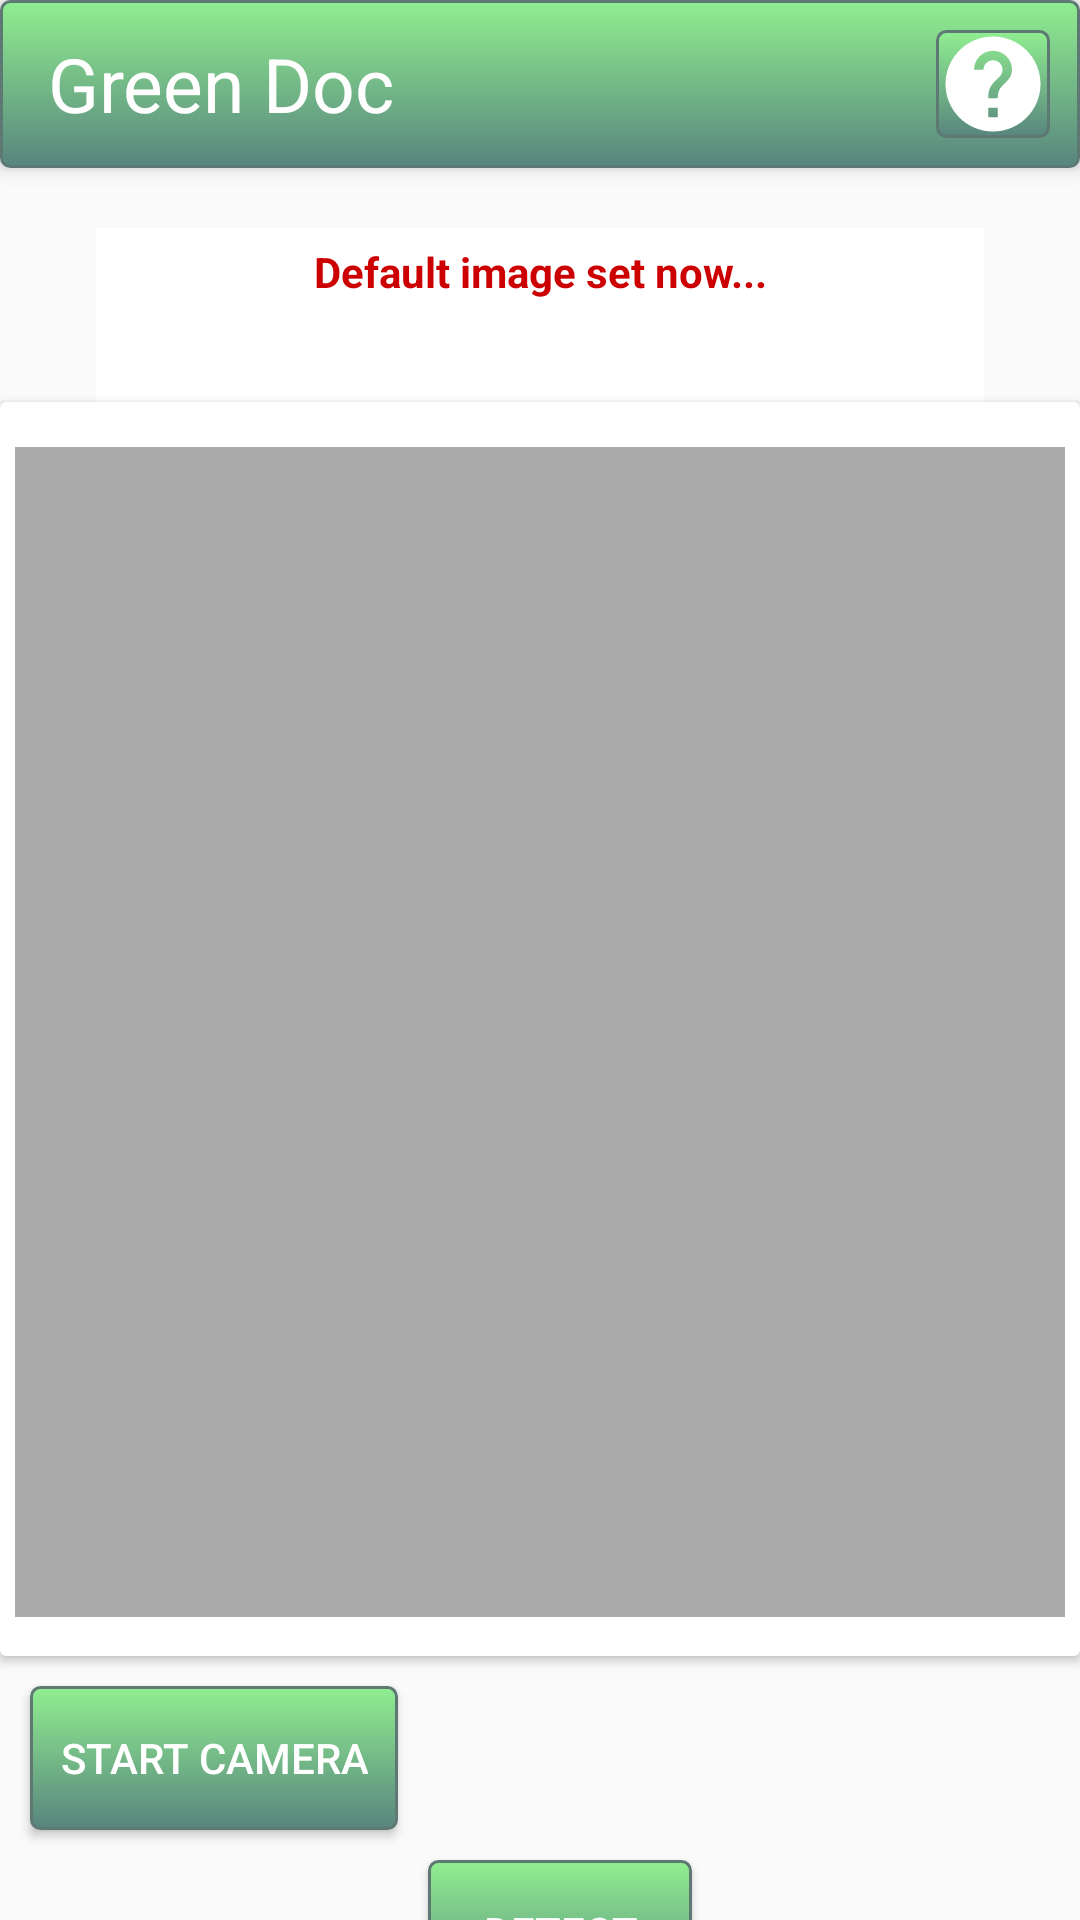

Named icons in this screenshot (1080x1920) and their centers, [x,y]:
help: [993,84]
